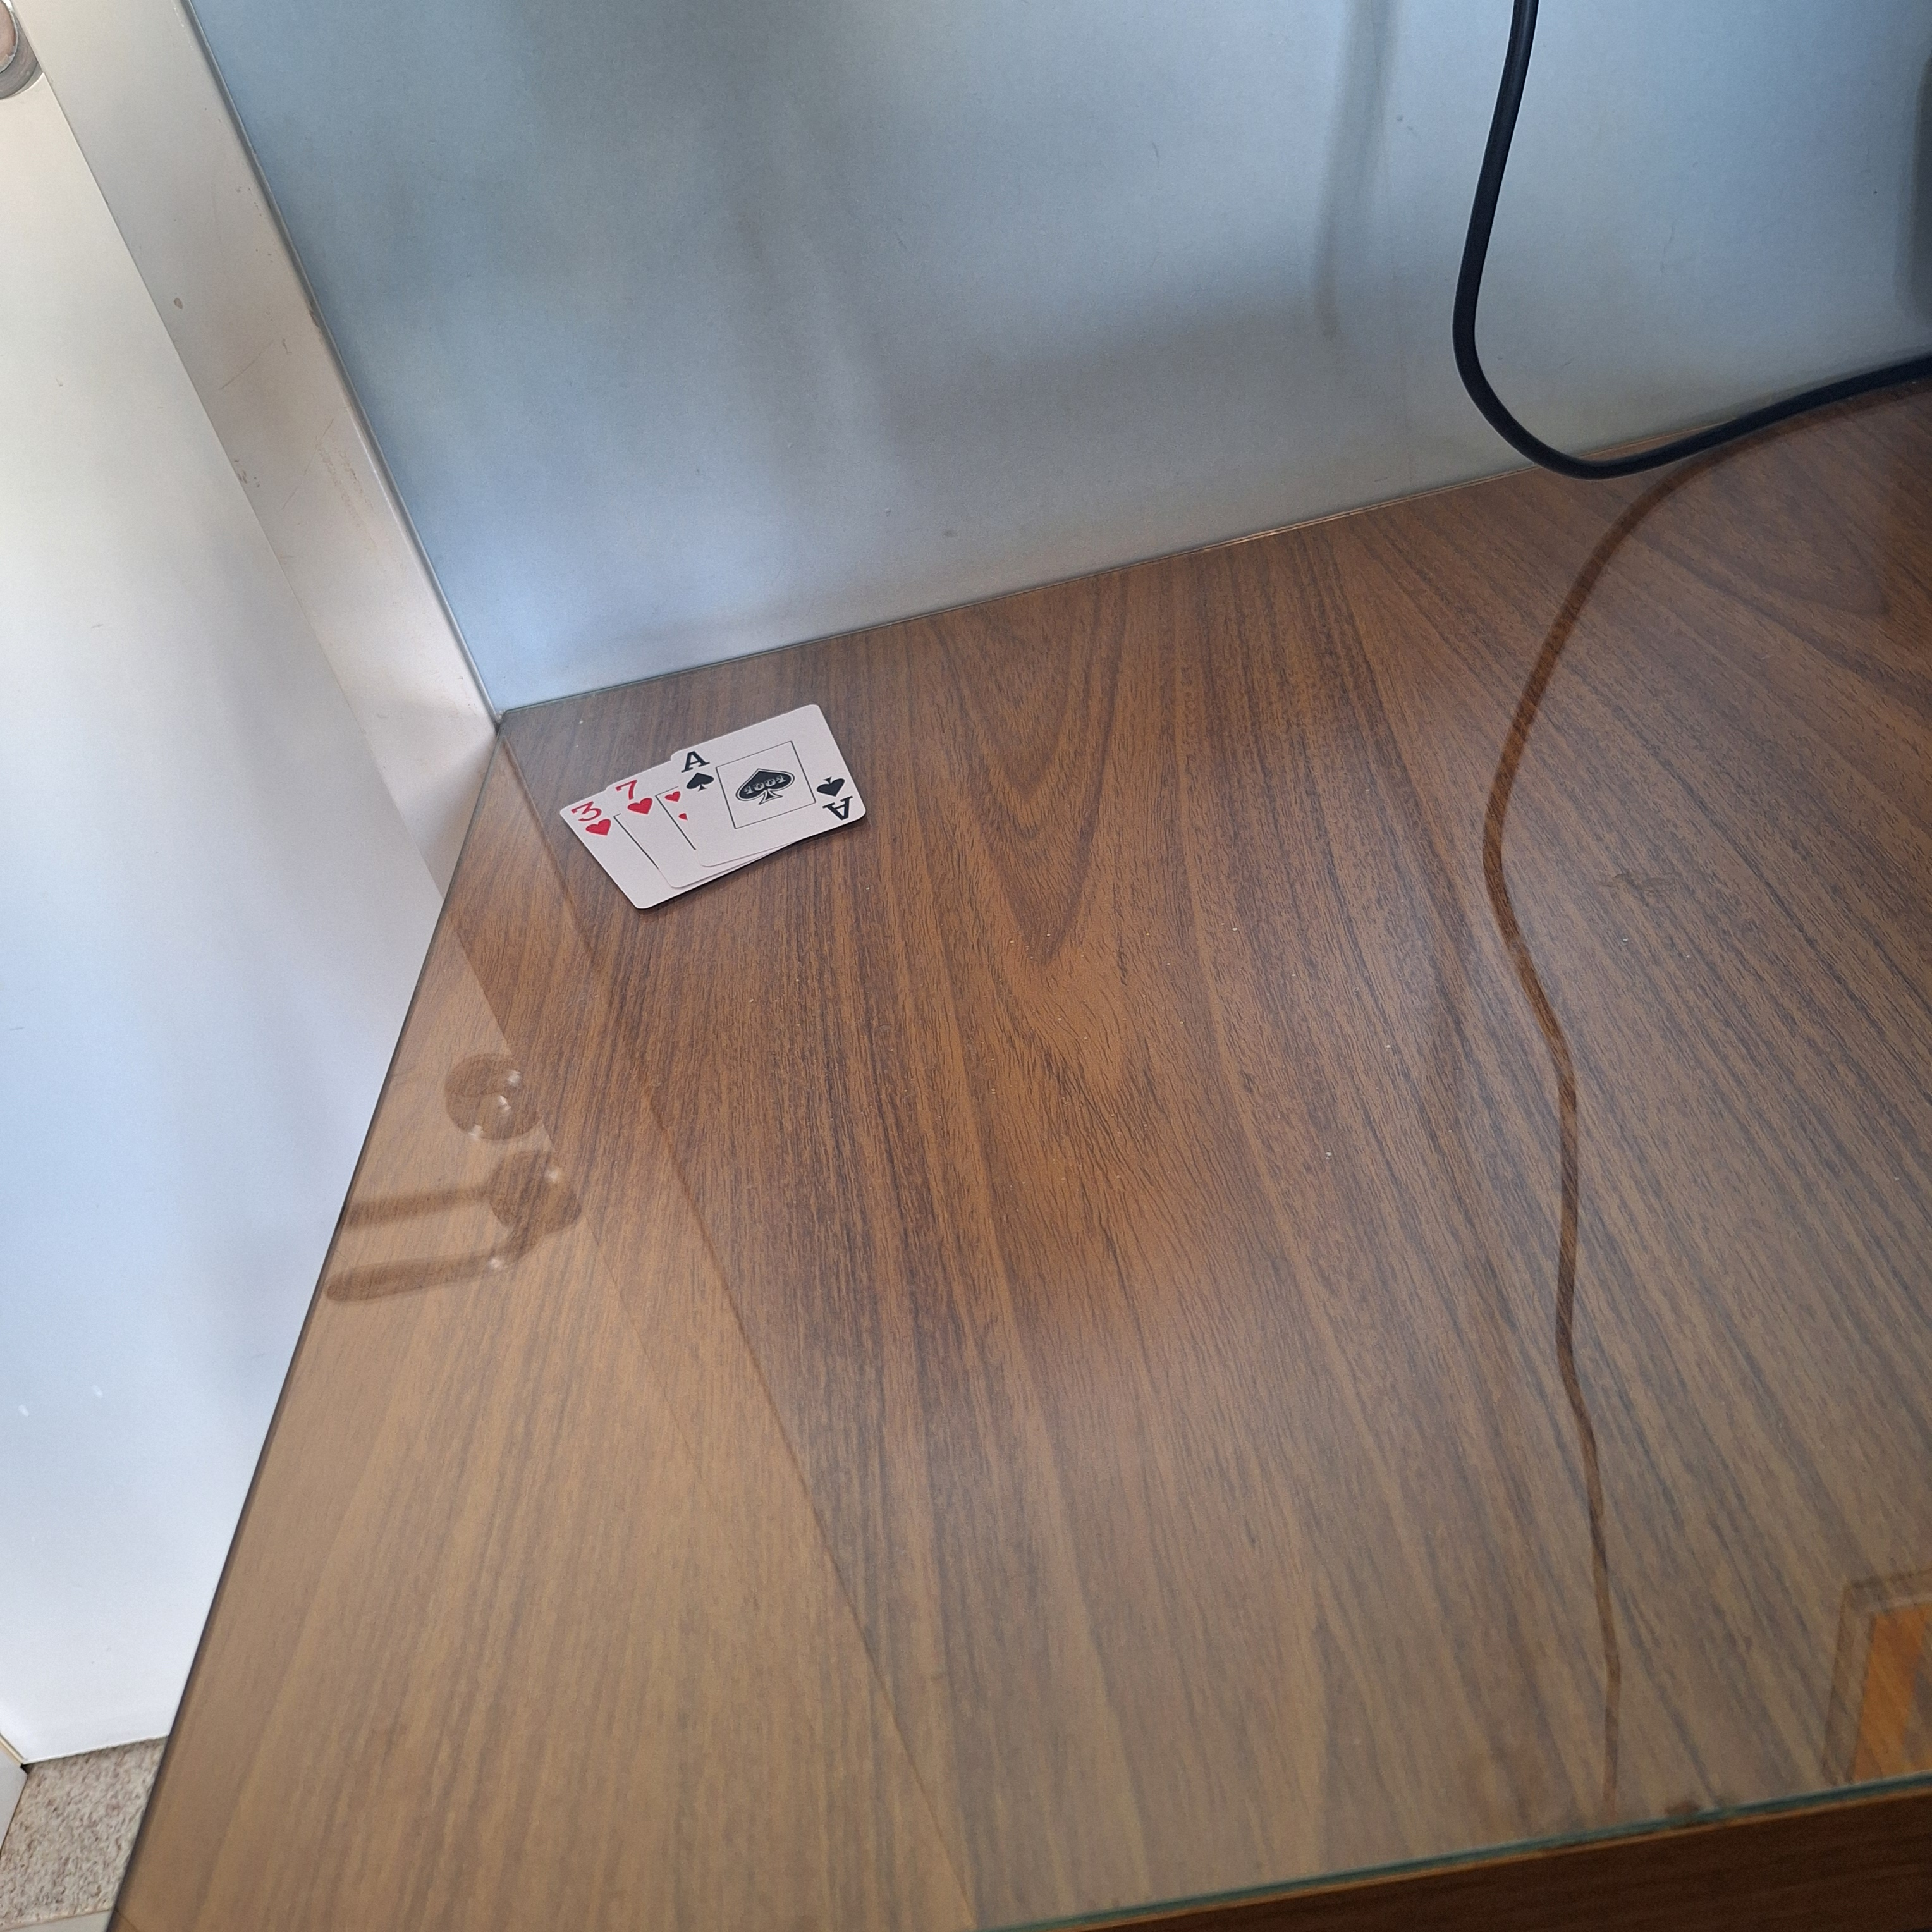3C: (564, 793, 617, 842)
7C: (610, 773, 658, 821)
AE: (807, 768, 862, 828), (676, 745, 725, 796)
